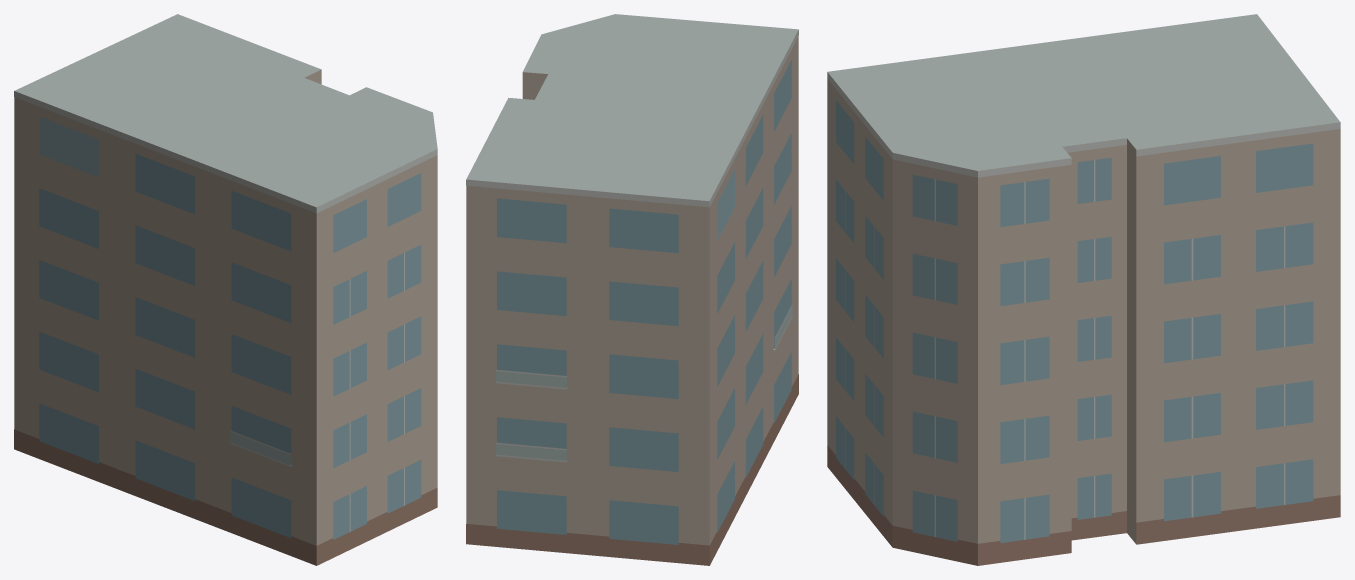
File: survey-upis-32838214.glb
3 views of the same model, side by side, from view 1: azimuth 30°, elevation 25°; view 2: azimuth 150°, elevation 25°; view 3: azimuth 270°, elevation 25° (orthographic). The views are drawn at different scales.
Parts seen in each view (by area): view 1: survey-upis-32838214.tmp; view 2: survey-upis-32838214.tmp; view 3: survey-upis-32838214.tmp.
Part boxes in pixels (x1,y1,x2,y2): survey-upis-32838214.tmp: [14, 14, 437, 565]; survey-upis-32838214.tmp: [466, 14, 798, 565]; survey-upis-32838214.tmp: [827, 14, 1340, 565].
Size of the model in its own units: 12.46 by 14.6 by 17.21.
